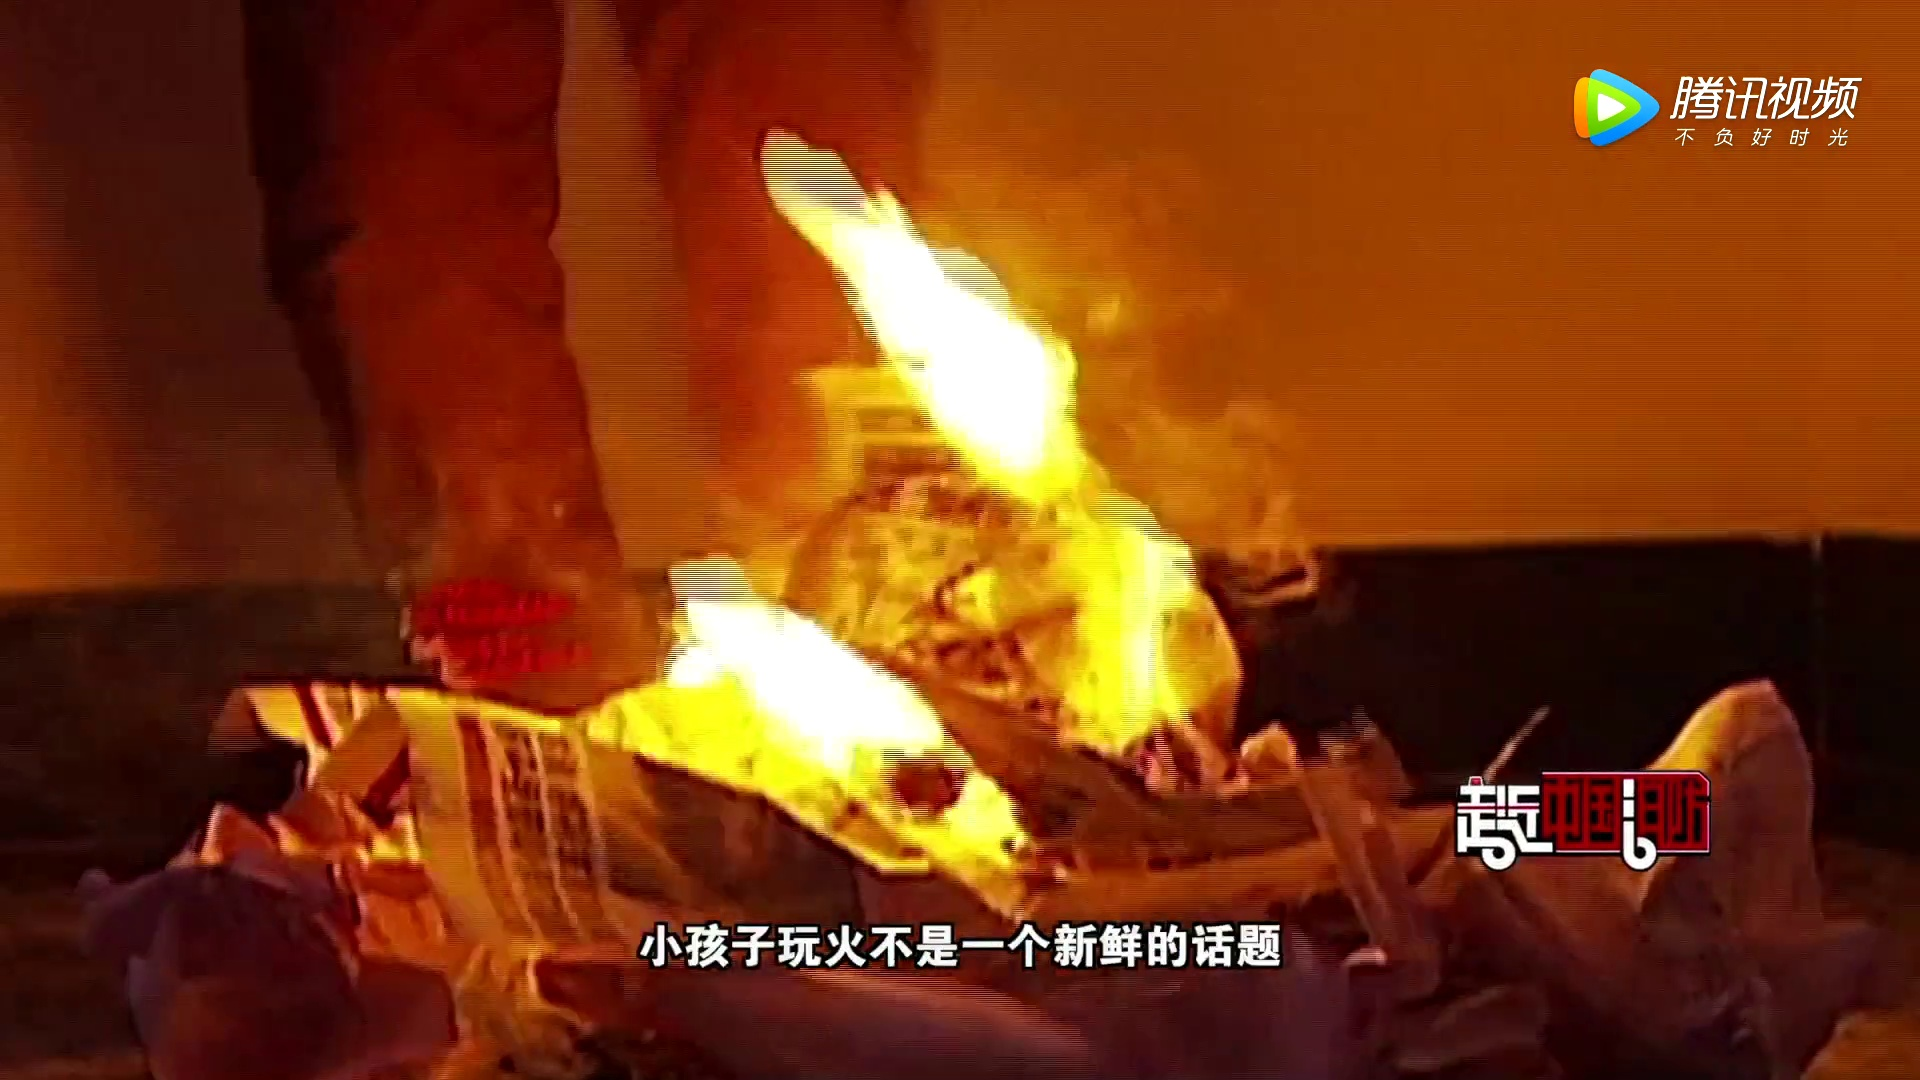fire: (752, 109, 1233, 749), (644, 563, 1048, 882)
